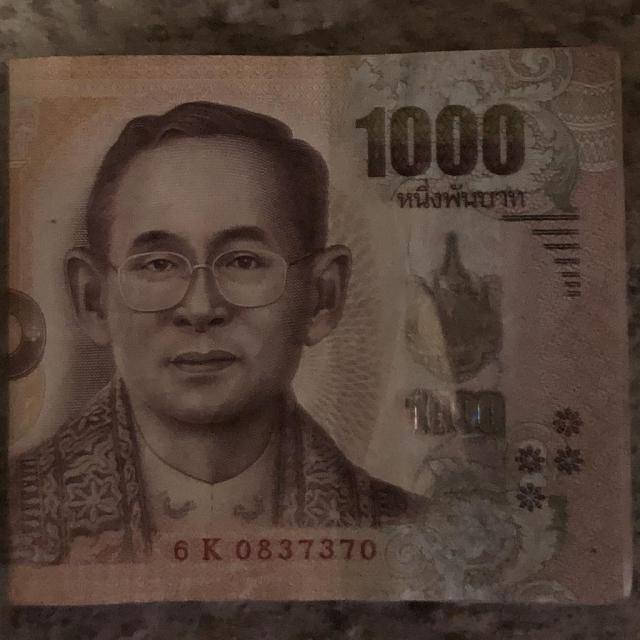THAI1000: (8, 47, 633, 607)
